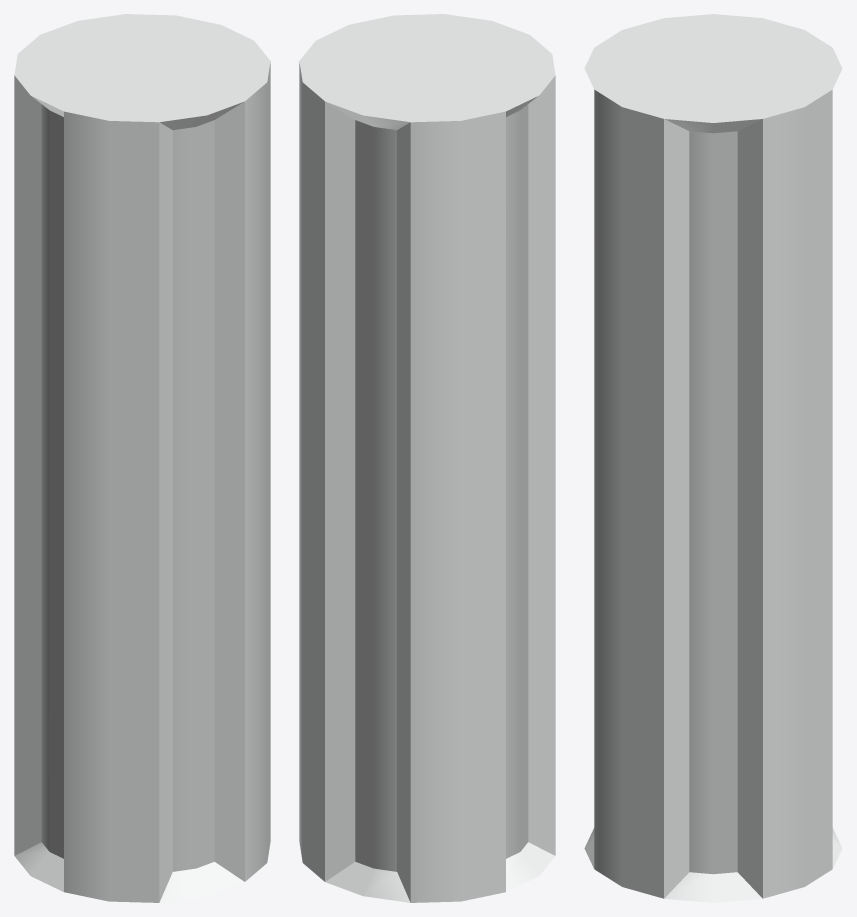
The model's file is cot 2.fbx.
3 renders of one model, left to right at view 1: azimuth 30°, elevation 25°; view 2: azimuth 150°, elevation 25°; view 3: azimuth 270°, elevation 25°, orthographic.
Visible parts, largest first — view 1: cot_2; view 2: cot_2; view 3: cot_2.
Part boxes in pixels (x1,y1,x2,y2): cot_2: [14, 14, 270, 902]; cot_2: [299, 14, 555, 902]; cot_2: [584, 14, 842, 902].
Size of the model in its own units: 6 by 20 by 6.
Materials: 1 (1 with a texture image).
